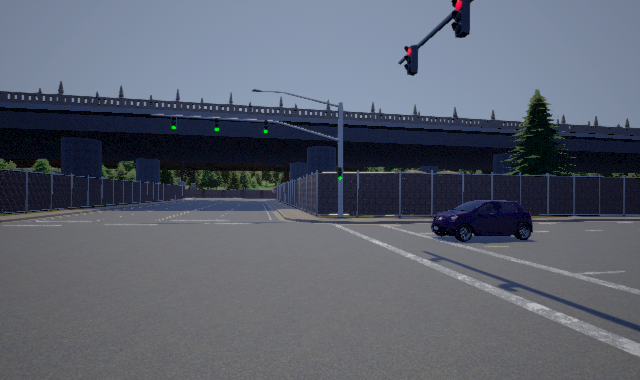traffic_light: (451, 1, 470, 38), (404, 45, 418, 76), (171, 116, 177, 131), (263, 120, 268, 135), (214, 118, 219, 133), (337, 167, 342, 180)
vehicle: (431, 200, 533, 242)
